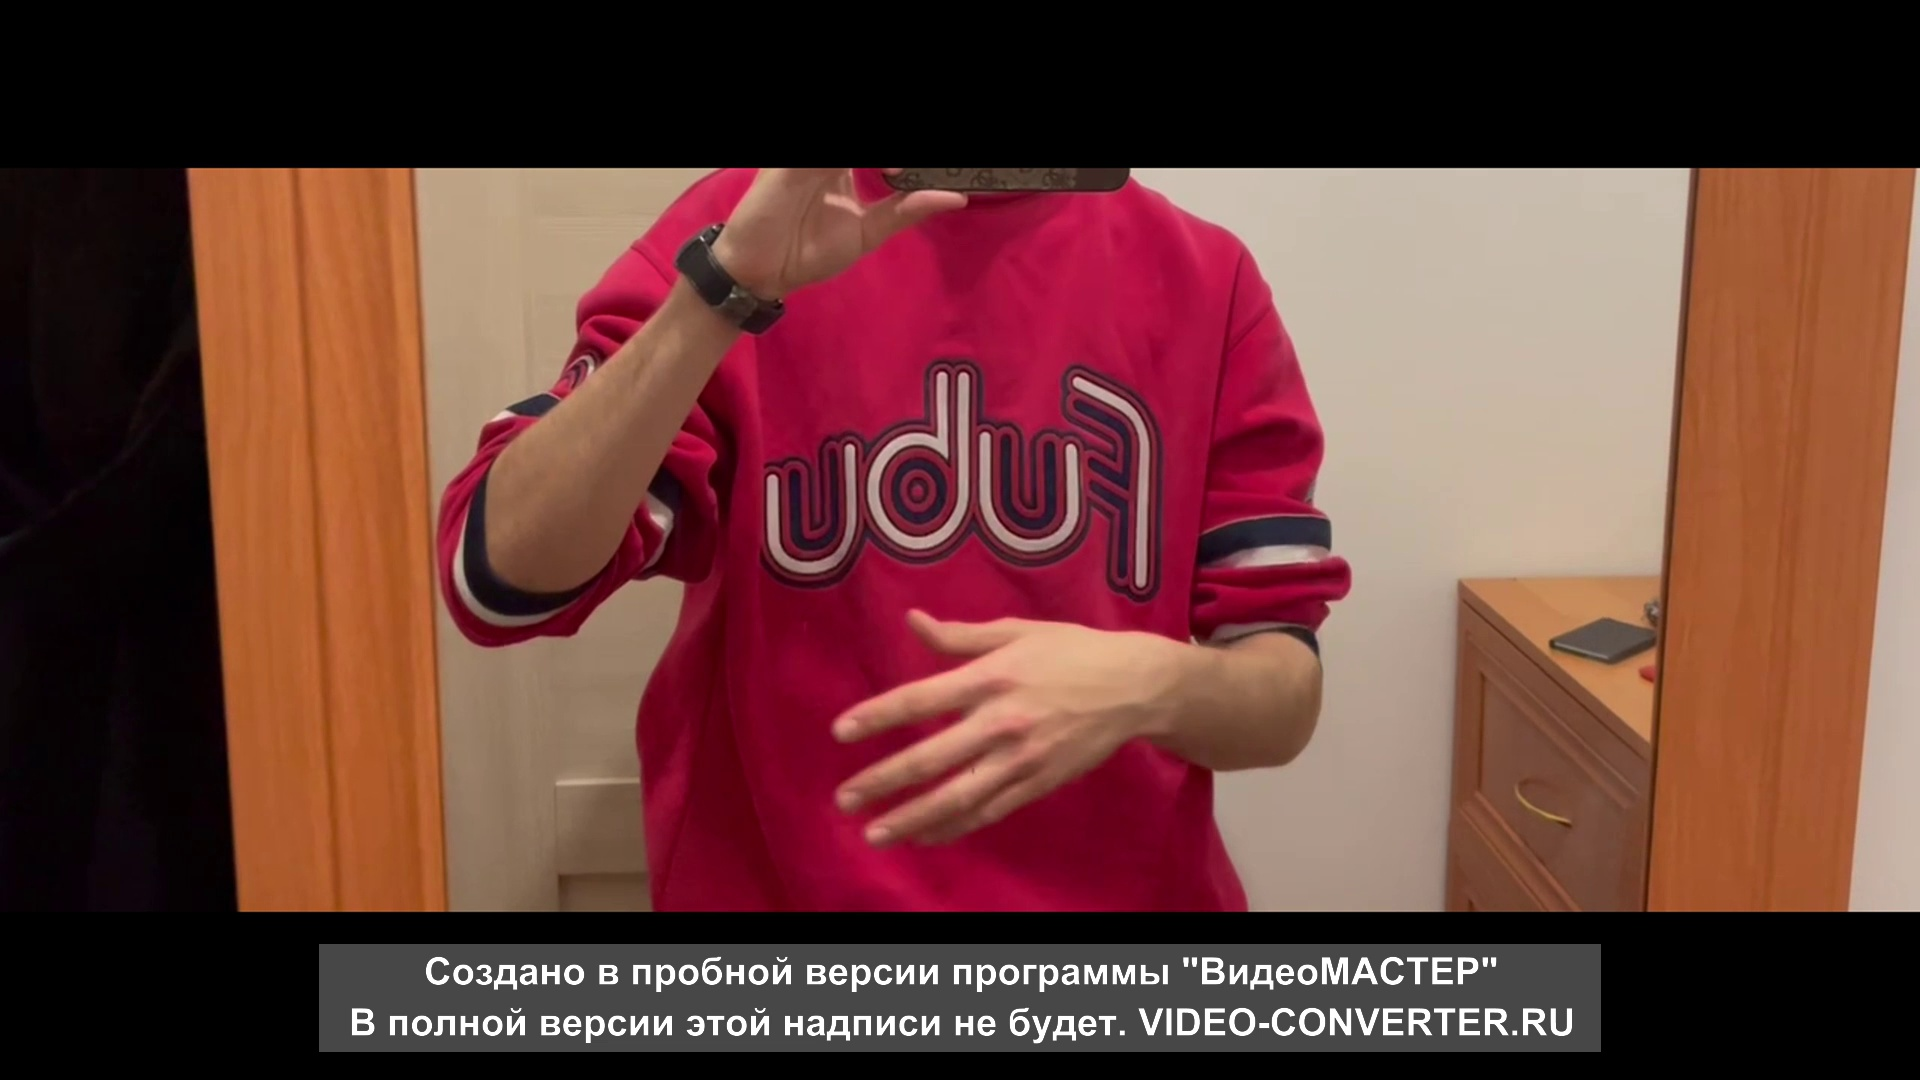Кисть: (828, 607, 1147, 847)
